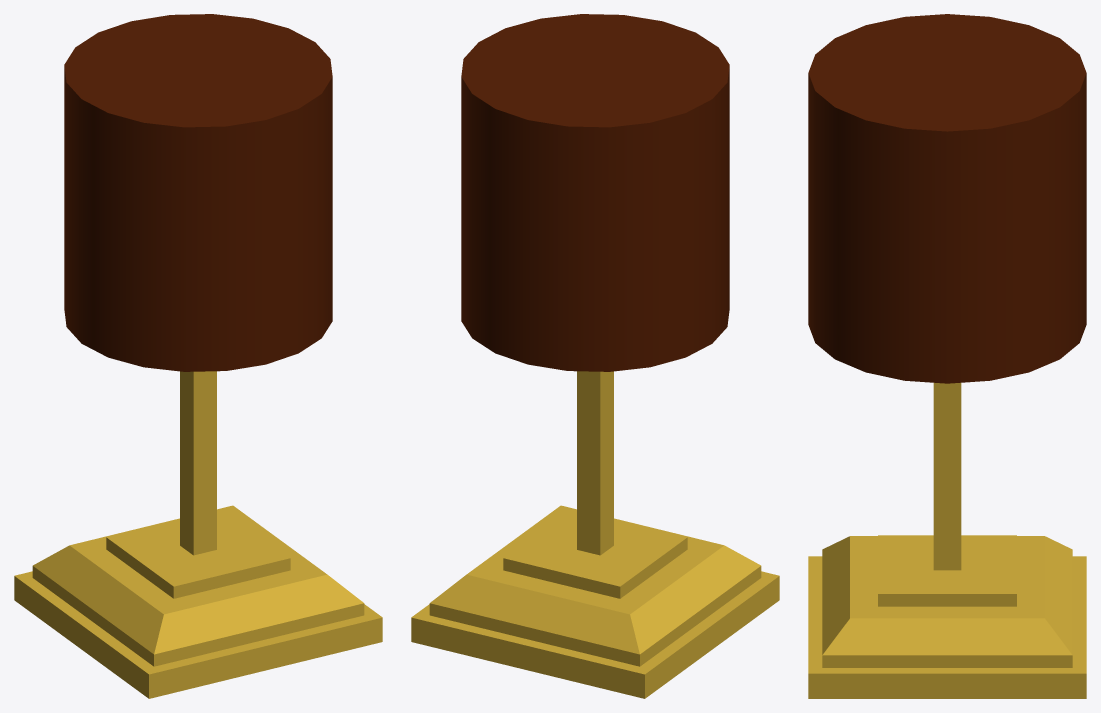
File: Blockout_Lamp_01.fbx
The picture shows the model from 3 angles, left to right: view 1: azimuth 30°, elevation 25°; view 2: azimuth 150°, elevation 25°; view 3: azimuth 270°, elevation 25°; orthographic projection. The views are drawn at different scales.
Visible parts, largest first — view 1: pCube3; view 2: pCube3; view 3: pCube3.
Part boxes in pixels (x1,y1,x2,y2): pCube3: (14,14,382,698); pCube3: (411,14,779,698); pCube3: (808,14,1086,698).
Size of the model in its own units: 10 by 22.51 by 10.
